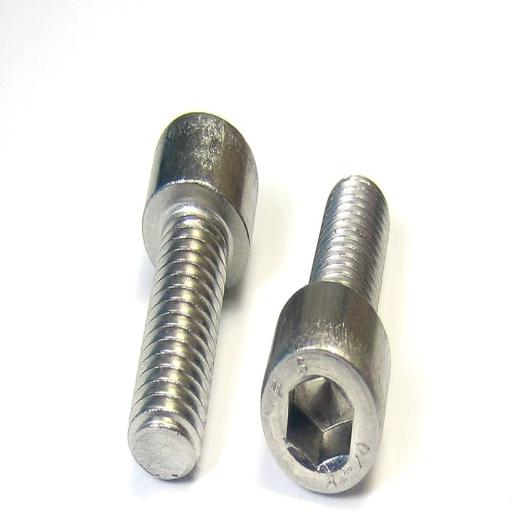Hex-Allen: (258, 287, 394, 498)
